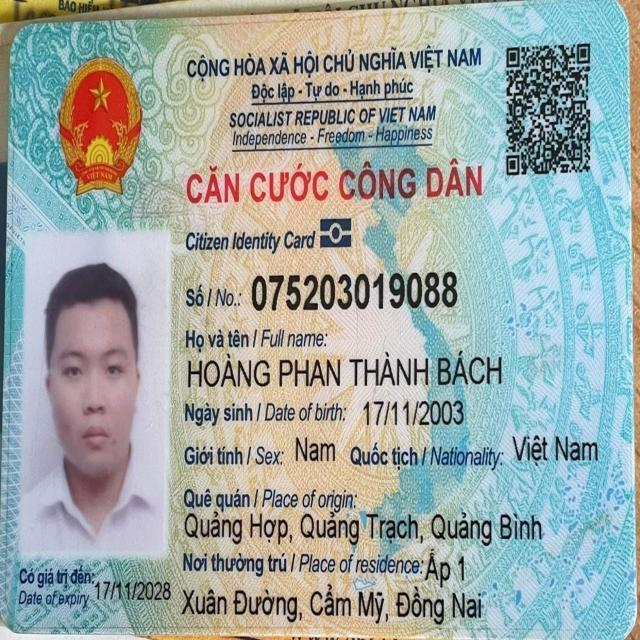current_place: (178, 582, 487, 631), (422, 543, 471, 591)
dob: (359, 393, 468, 433)
expire_date: (91, 572, 174, 607)
gender: (292, 430, 339, 469)
id: (247, 263, 462, 318)
name: (180, 347, 507, 395)
nationality: (509, 428, 604, 472)
origin_place: (180, 505, 545, 549)
